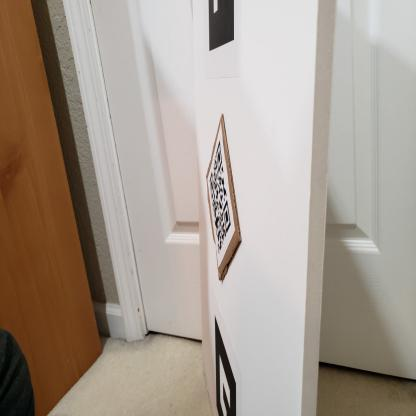qr: (201, 144, 236, 249)
